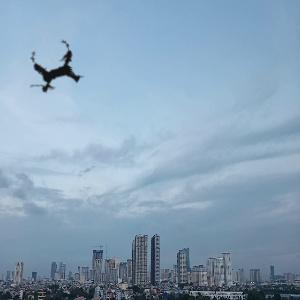drone: (3, 21, 108, 126)
